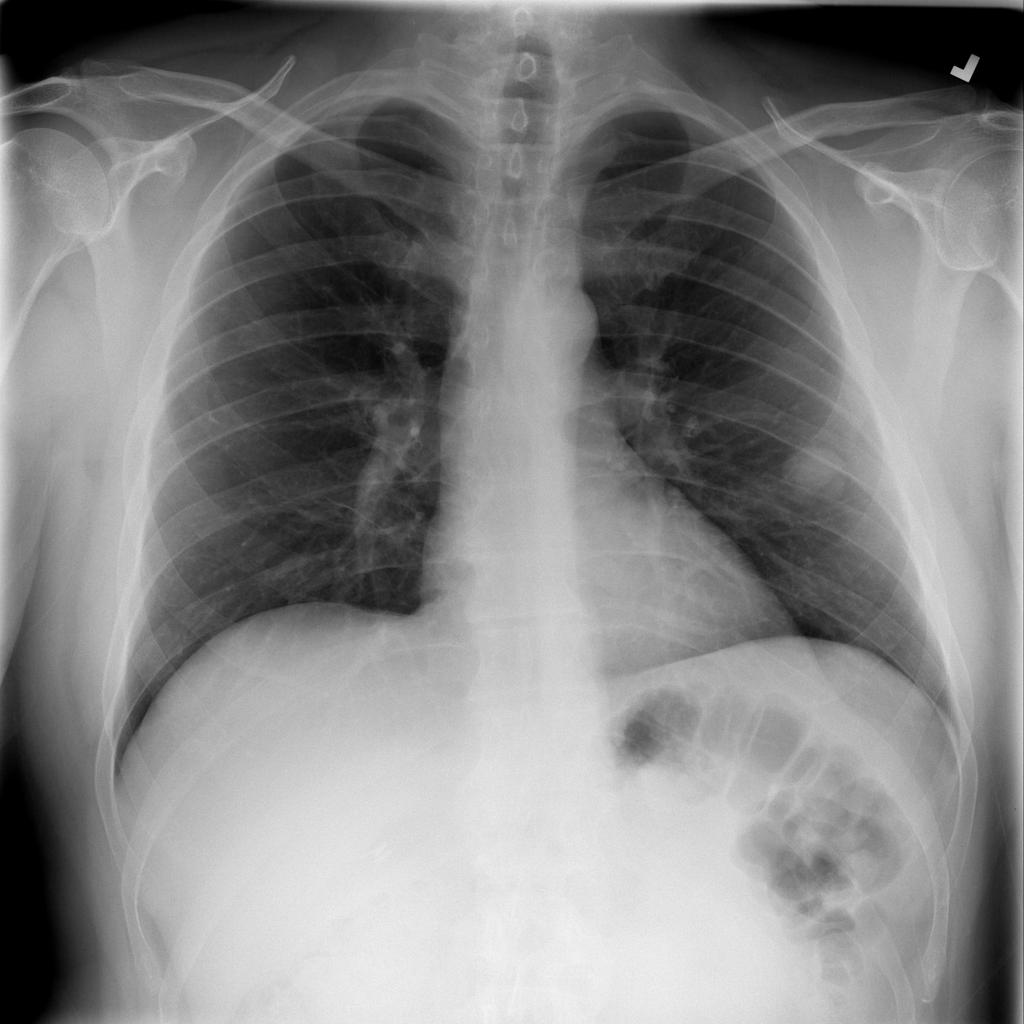nodule: (756, 417, 873, 521)
